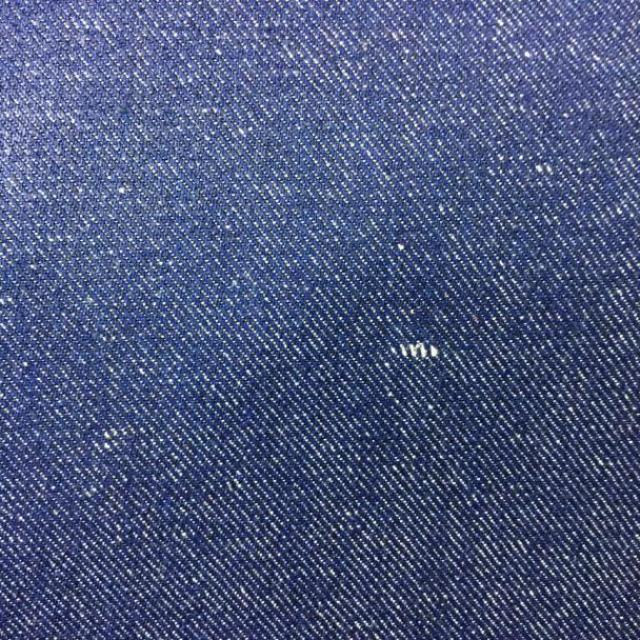Knot: (393, 342, 440, 359)
